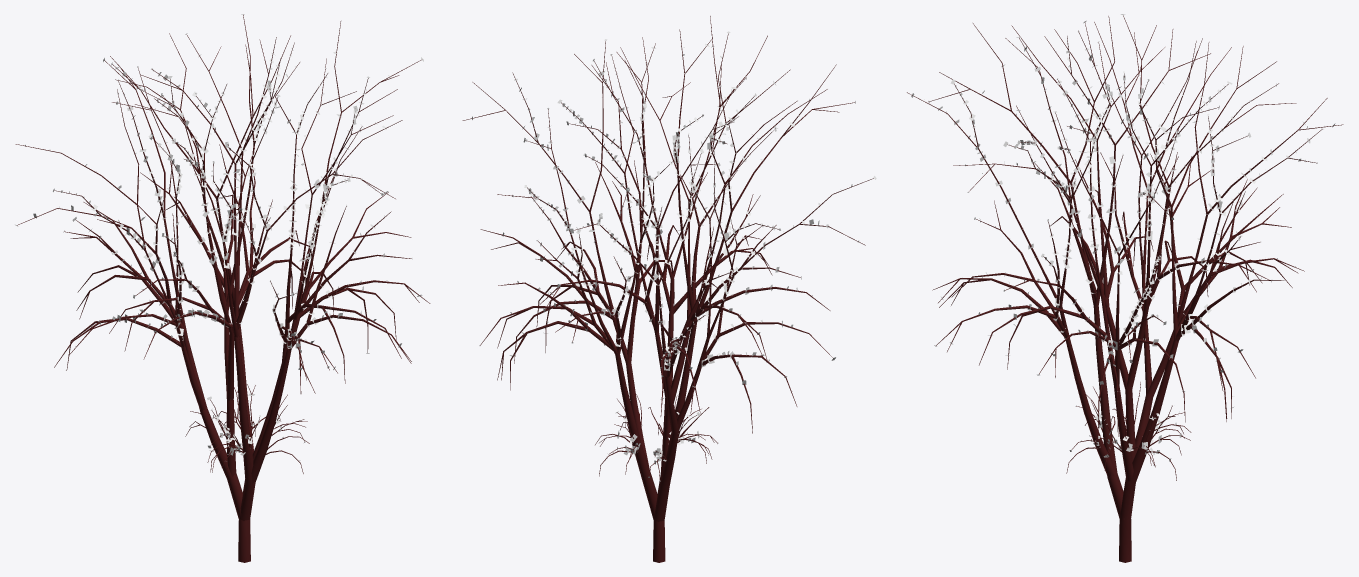
The model's file is arbol.glb.
3 renders of one model, left to right at view 1: azimuth 30°, elevation 25°; view 2: azimuth 150°, elevation 25°; view 3: azimuth 270°, elevation 25°, orthographic. The views are drawn at different scales.
Visible parts, largest first — view 1: tree, leaves; view 2: tree, leaves; view 3: tree, leaves.
Part boxes in pixels (box(x1,y1,x2,y2)): tree: box(15, 15, 430, 562); leaves: box(15, 14, 423, 472); tree: box(462, 16, 873, 562); leaves: box(472, 28, 876, 481); tree: box(907, 15, 1343, 562); leaves: box(911, 14, 1335, 466).
Size of the model in its own units: 5.52 by 6.73 by 5.08.
